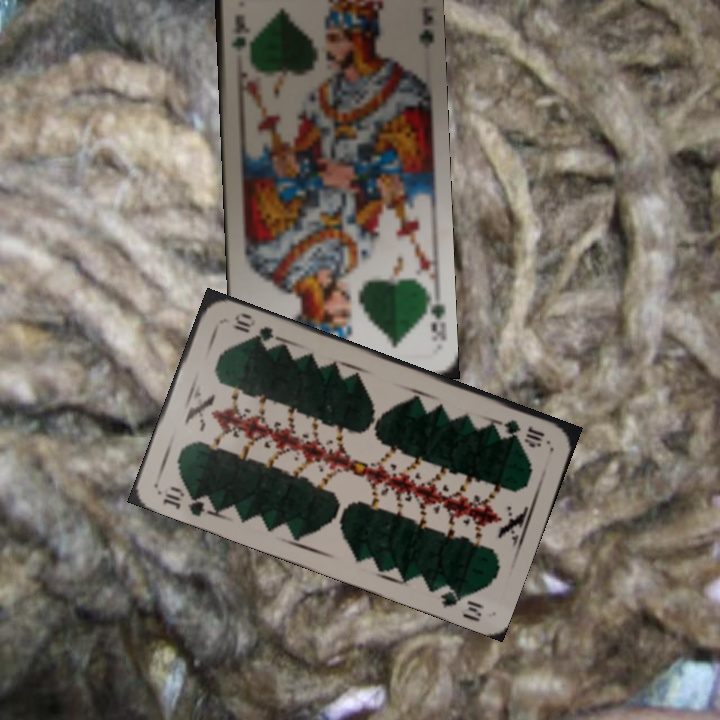G10: (158, 482, 214, 519), (491, 415, 547, 448)
GK: (421, 294, 449, 343), (227, 11, 249, 55)
